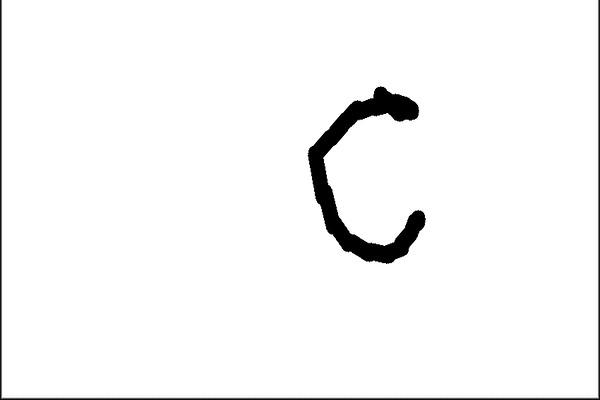C: (303, 76, 431, 266)
